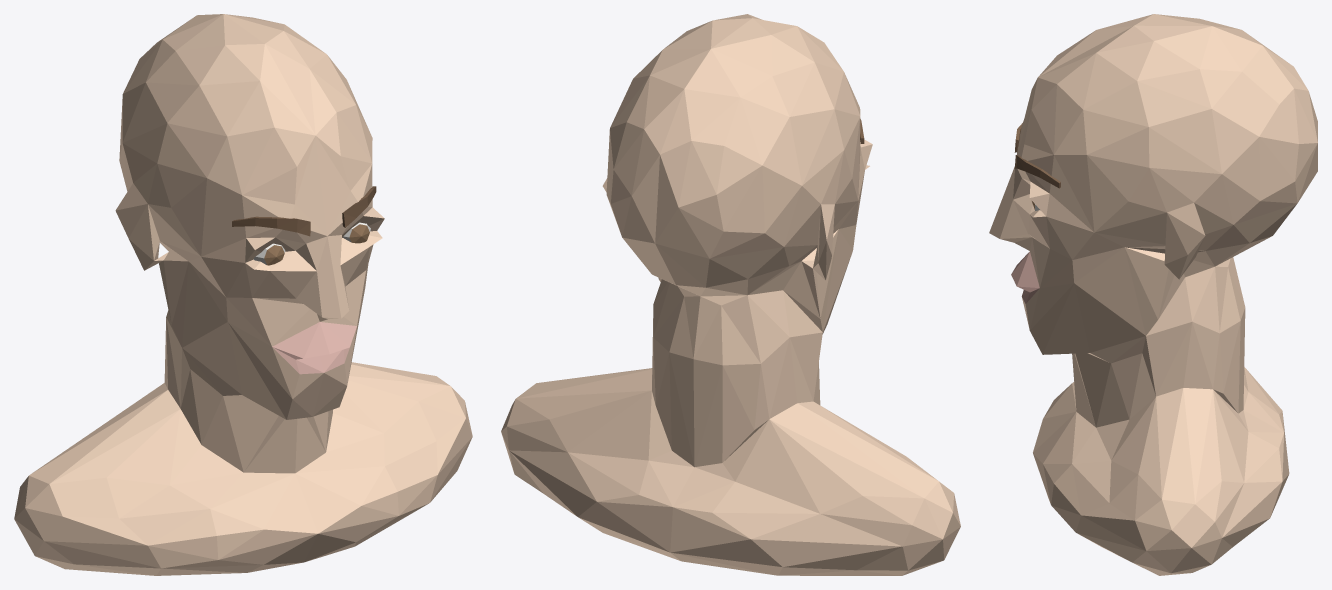
Rendered from head_low.glb.
3 renders of one model, left to right at view 1: azimuth 30°, elevation 25°; view 2: azimuth 150°, elevation 25°; view 3: azimuth 270°, elevation 25°, orthographic. The views are drawn at different scales.
Parts seen in each view (by area): view 1: Head_Main, Eyebrow_R; view 2: Head_Main; view 3: Head_Main, Eyebrow_L.
Part boxes in pixels (box(x1,y1,x2,y2)): Head_Main: box(14, 14, 472, 575); Eyebrow_R: box(232, 216, 310, 236); Head_Main: box(501, 14, 960, 575); Head_Main: box(989, 14, 1317, 575); Eyebrow_L: box(1014, 155, 1060, 188).
Size of the model in its own units: 0.3206 by 0.3406 by 0.2187.
